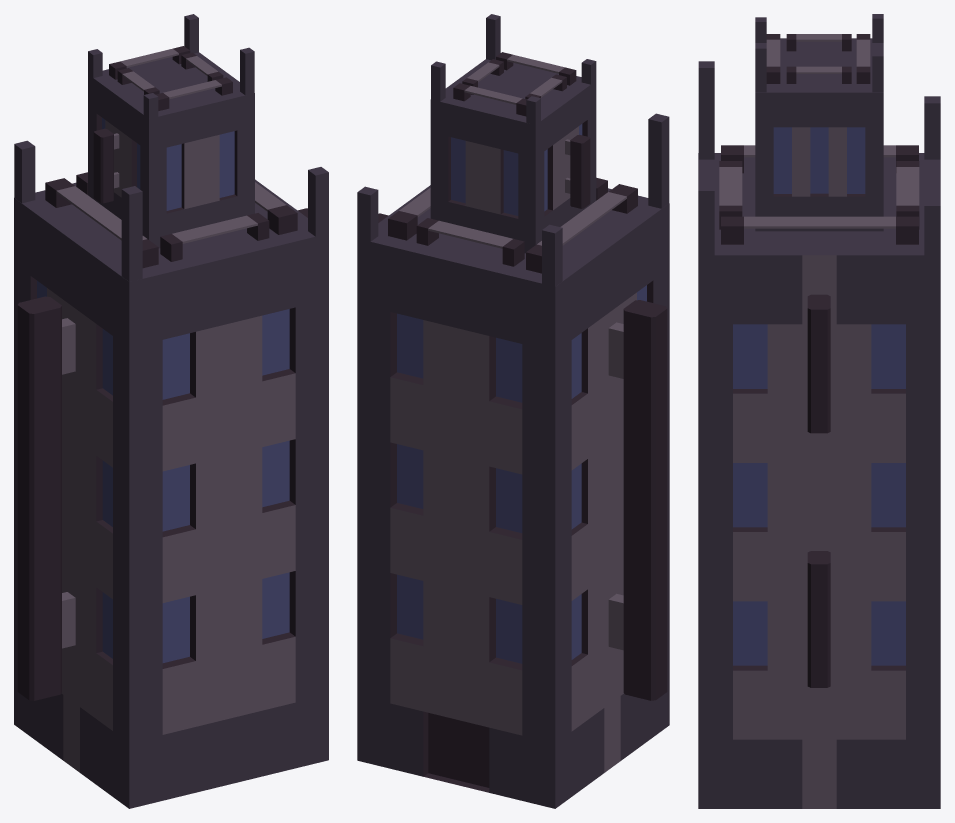
The model's file is Tower-2-2.fbx.
3 renders of one model, left to right at view 1: azimuth 30°, elevation 25°; view 2: azimuth 150°, elevation 25°; view 3: azimuth 270°, elevation 25°, orthographic. The views are drawn at different scales.
Parts seen in each view (by area): view 1: Tower-2-2.001; view 2: Tower-2-2.001; view 3: Tower-2-2.001.
Part boxes in pixels (left/top/right/bottom): Tower-2-2.001: left=14, top=14, right=328, bottom=808; Tower-2-2.001: left=357, top=14, right=669, bottom=808; Tower-2-2.001: left=698, top=14, right=940, bottom=808.
Size of the model in its own units: 86.27 by 198 by 59.05.
